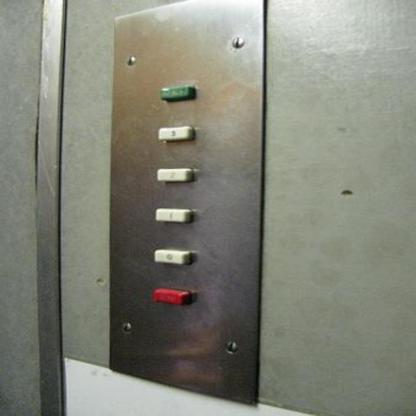1: (149, 204, 197, 226)
2: (150, 164, 198, 185)
3: (152, 122, 199, 144)
G: (148, 246, 196, 268)
text: (148, 285, 196, 307), (153, 83, 200, 104)
